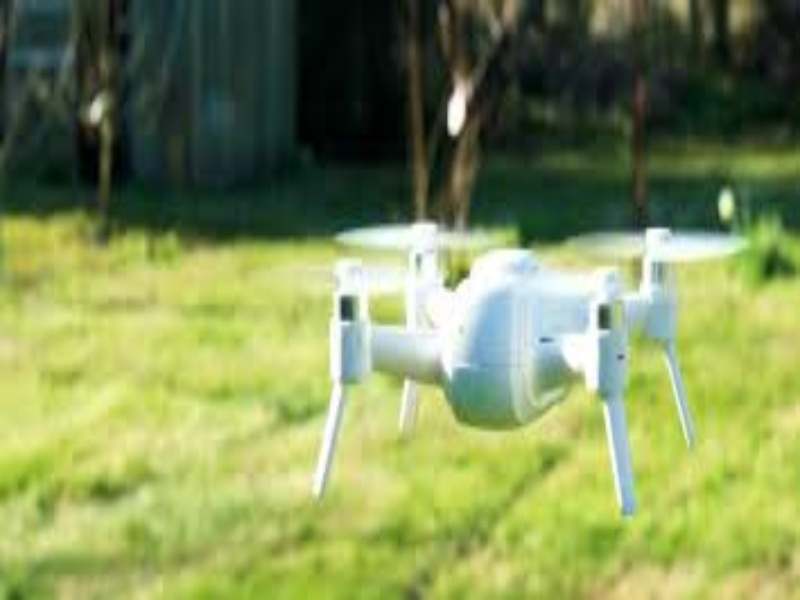drone: (287, 196, 731, 514)
